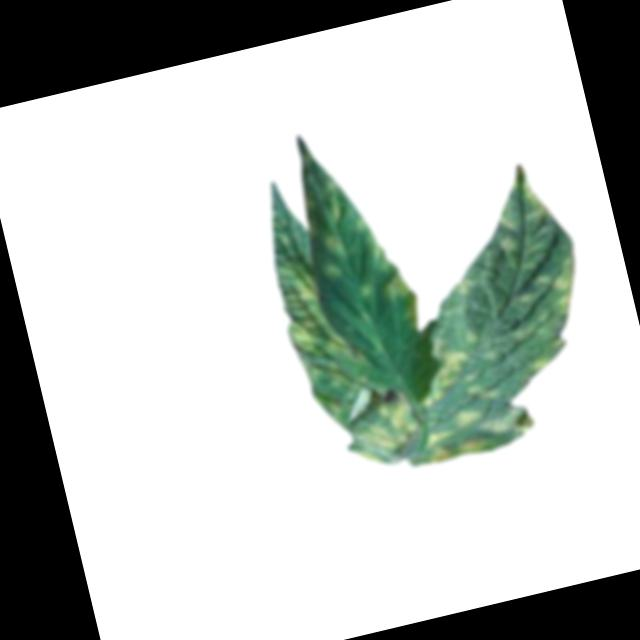Leaf_Mold: (270, 242, 420, 483), (402, 316, 537, 466), (506, 253, 600, 376), (379, 263, 425, 336), (313, 232, 345, 257)
